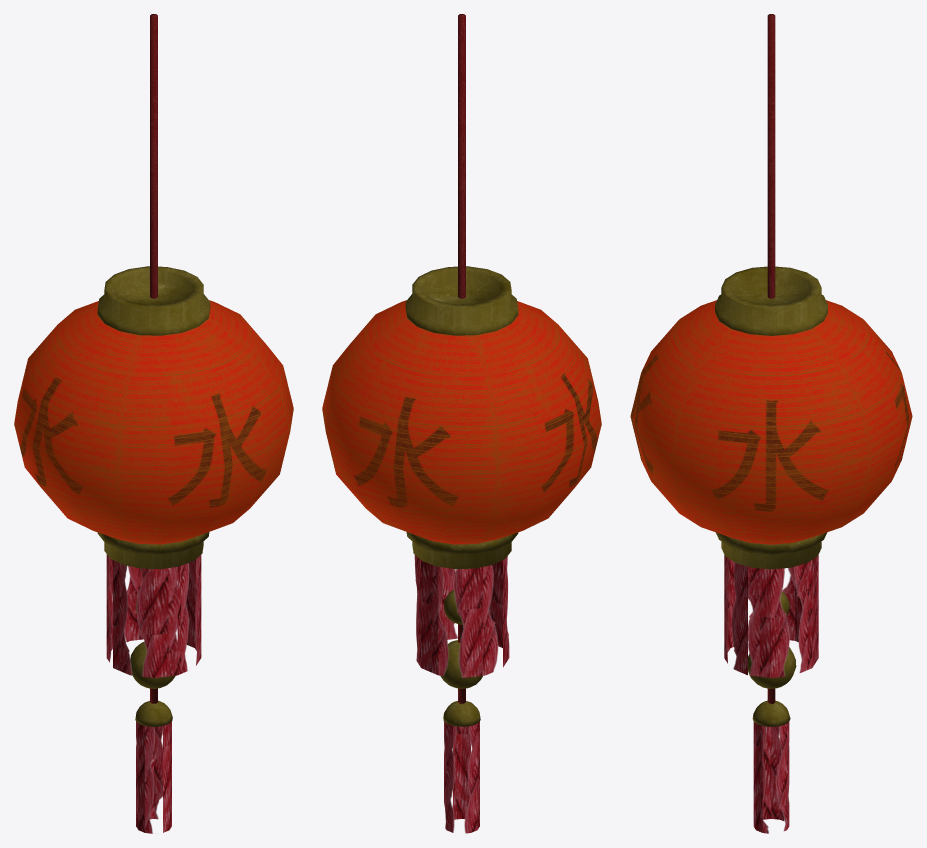
The model's file is lantern.glb.
The picture shows the model from 3 angles, left to right: view 1: azimuth 30°, elevation 25°; view 2: azimuth 150°, elevation 25°; view 3: azimuth 270°, elevation 25°; orthographic projection.
Visible parts, largest first — view 1: Sphere_Material.001_0; view 2: Sphere_Material.001_0; view 3: Sphere_Material.001_0.
Boxes of the visible parts, left/top/right/bottom form: Sphere_Material.001_0: left=14, top=14, right=293, bottom=833; Sphere_Material.001_0: left=322, top=14, right=601, bottom=833; Sphere_Material.001_0: left=630, top=14, right=912, bottom=833.
Bounding box in the file's own units: 200 × 634 × 200.
Materials: 3 (3 with a texture image).
